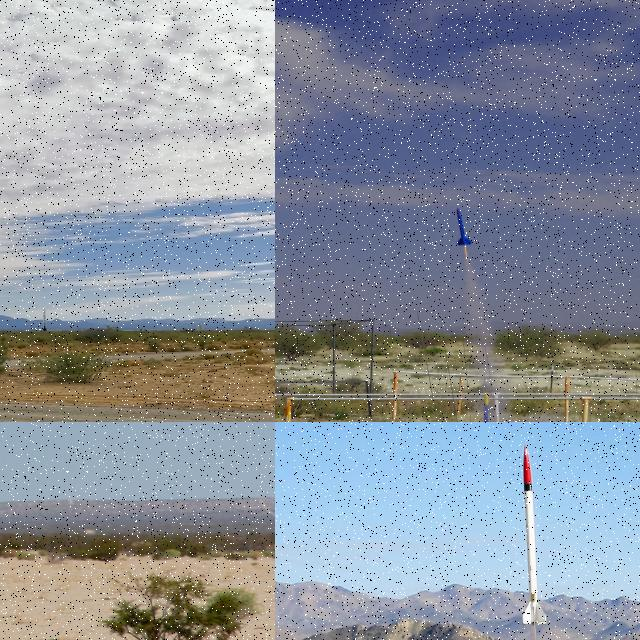Rocket: (521, 444, 547, 626), (456, 208, 473, 246), (479, 391, 493, 422), (42, 307, 48, 331)
